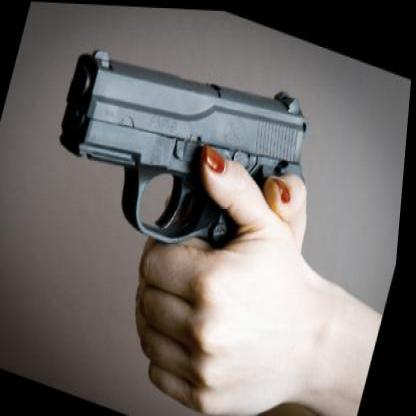pistol: (23, 1, 334, 309)
